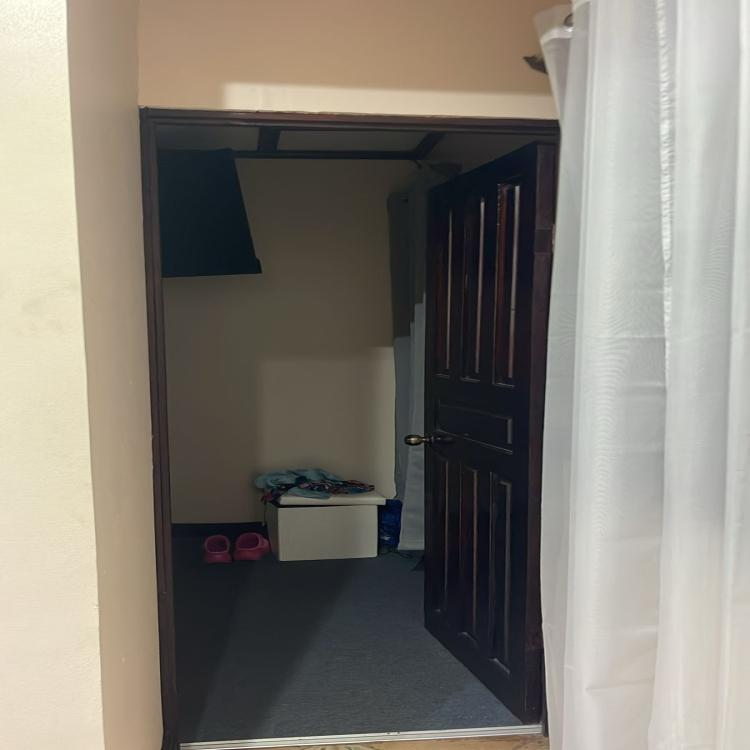OpenDoor: (114, 91, 567, 750)
